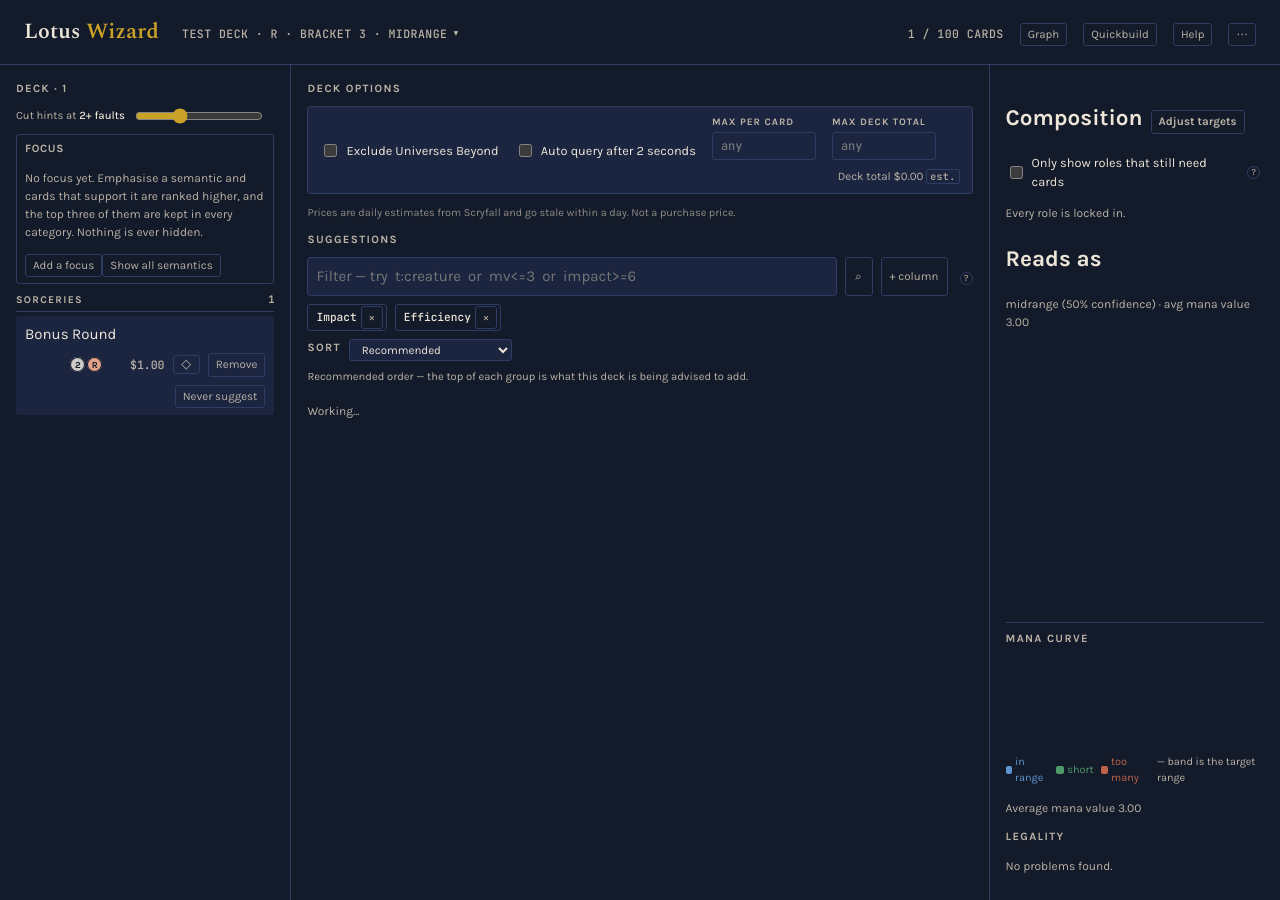
Test: the card panel reads the restriction off the card in front of you › shows the restriction on the "Benefits from" chip of any card, not just a commander
This screenshot has width=1280, height=900.
Click the button with aria-label "Preview Bonus Round".
click(145, 334)  # box [25,323,266,345]
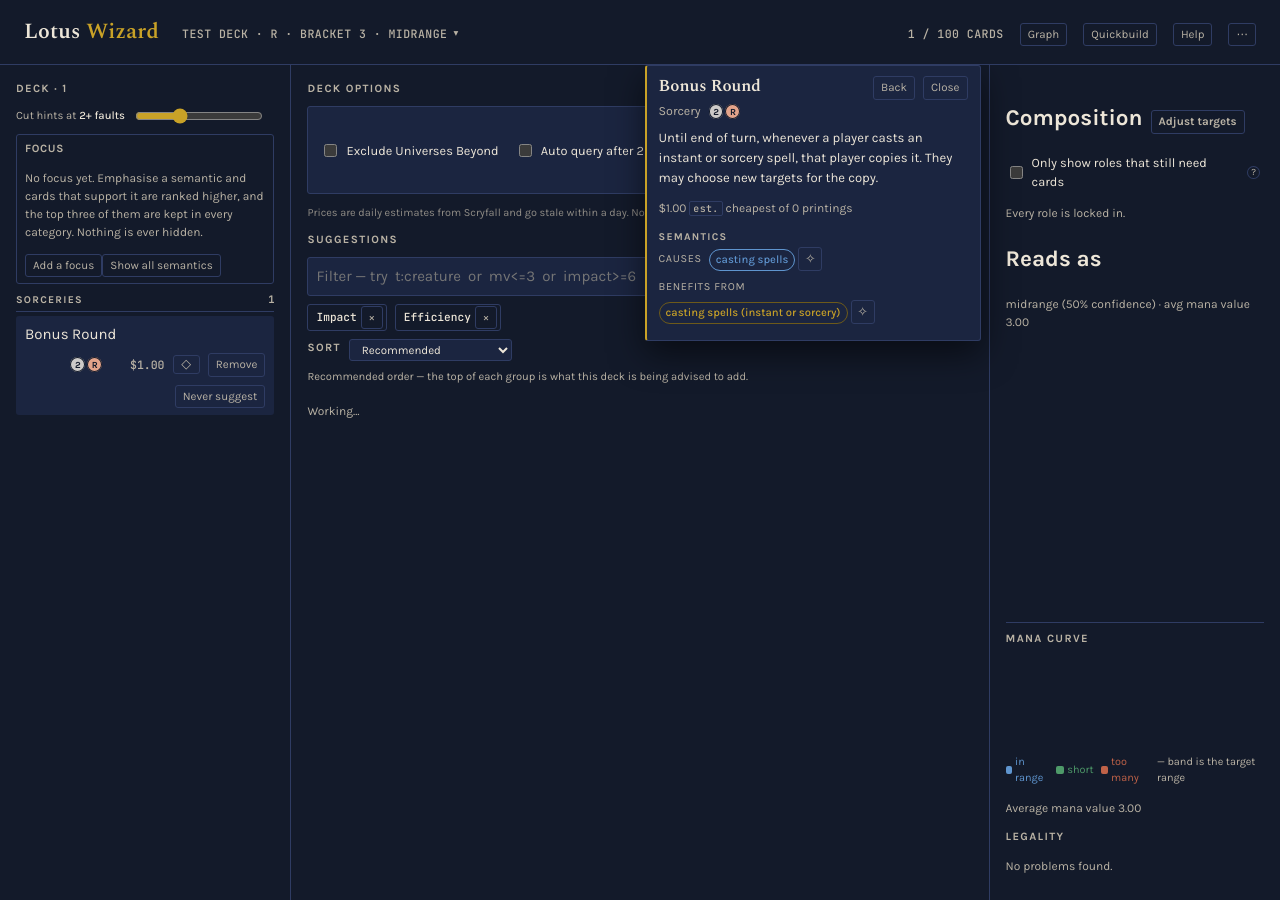
Expected: the heading "Semantics" is shown, [658,230,727,243]
Expected: the text "casting spells (instant or sorcery)" is shown, [658,302,848,324]
